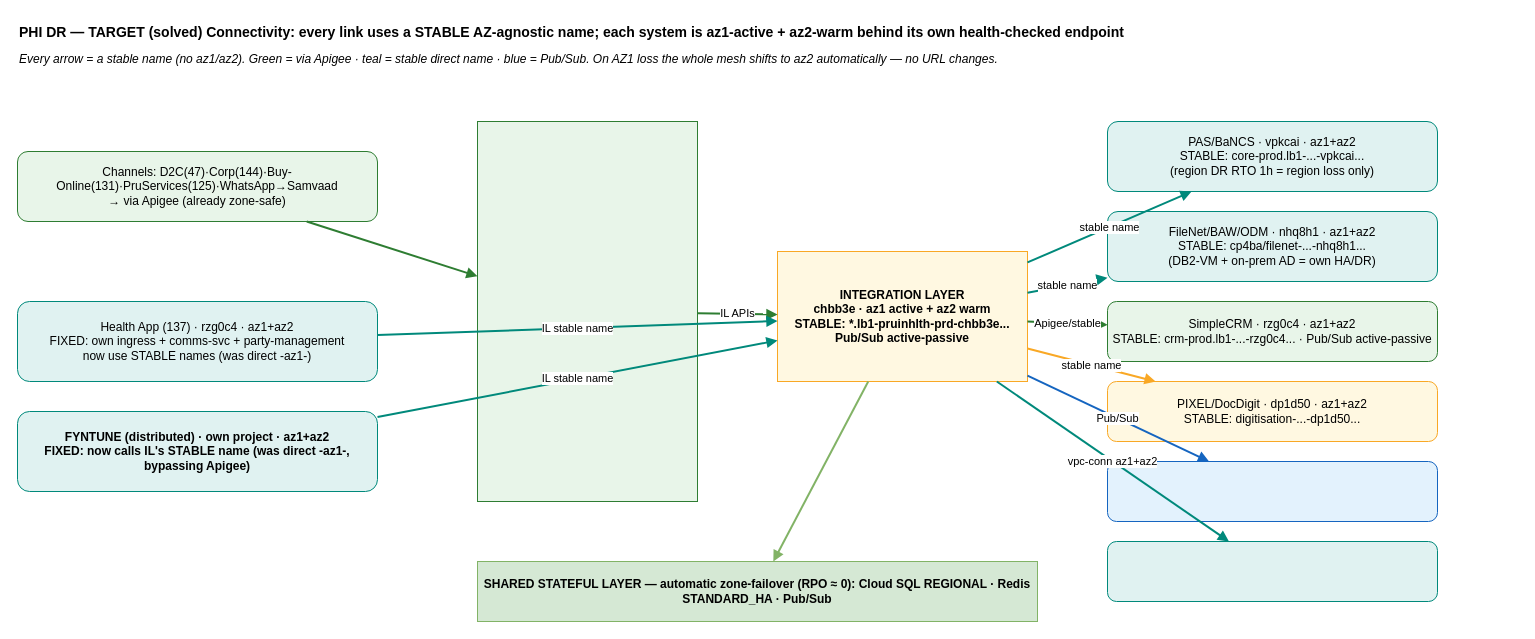
Some shapes in this 1535 by 639 pixel diagram are drawn without their labels. Here are the shapes that lost their labels. From the top down, the centre of each, then its label:
At pixel 587 311: "APIGEE GATEWAY (zone-agnostic) targets repointed → stable names".
At pixel 1272 491: "CHUB/Comms · az1+az2 Pub/Sub + REST · consumer active-passive".
At pixel 1272 571: "Samvaad · f950ic · az1+az2 ADD az2 VPC connector; egress → stable names".
